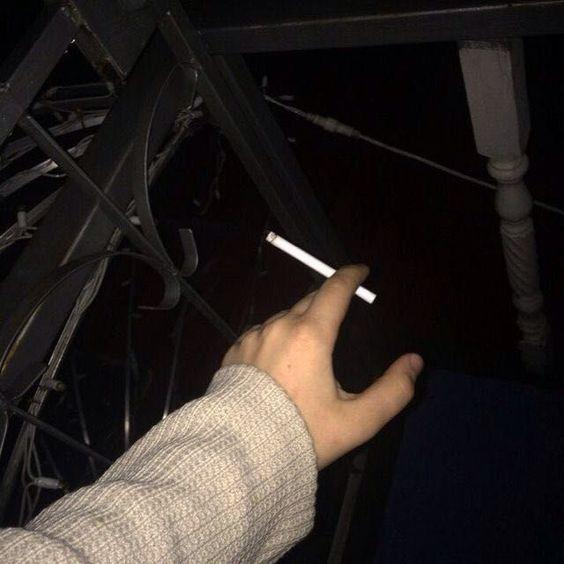cigarette: (265, 231, 377, 304)
